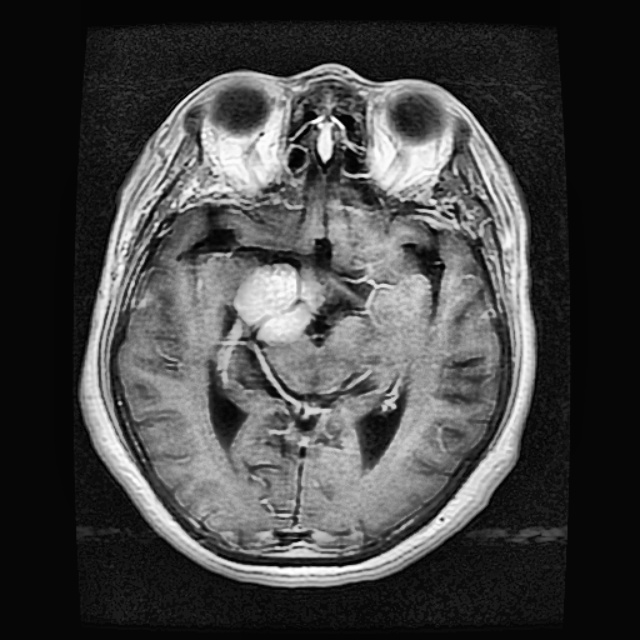Pituitary: (234, 262, 325, 340)
